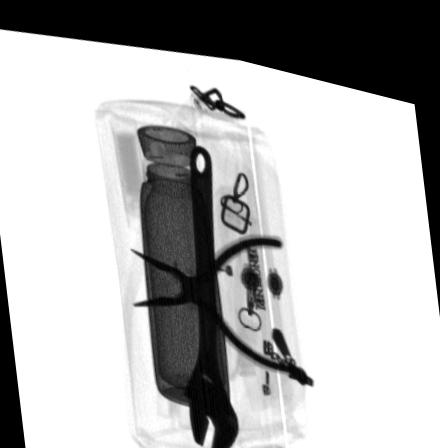Pliers: (129, 223, 301, 363)
Wrench: (181, 135, 239, 448)
